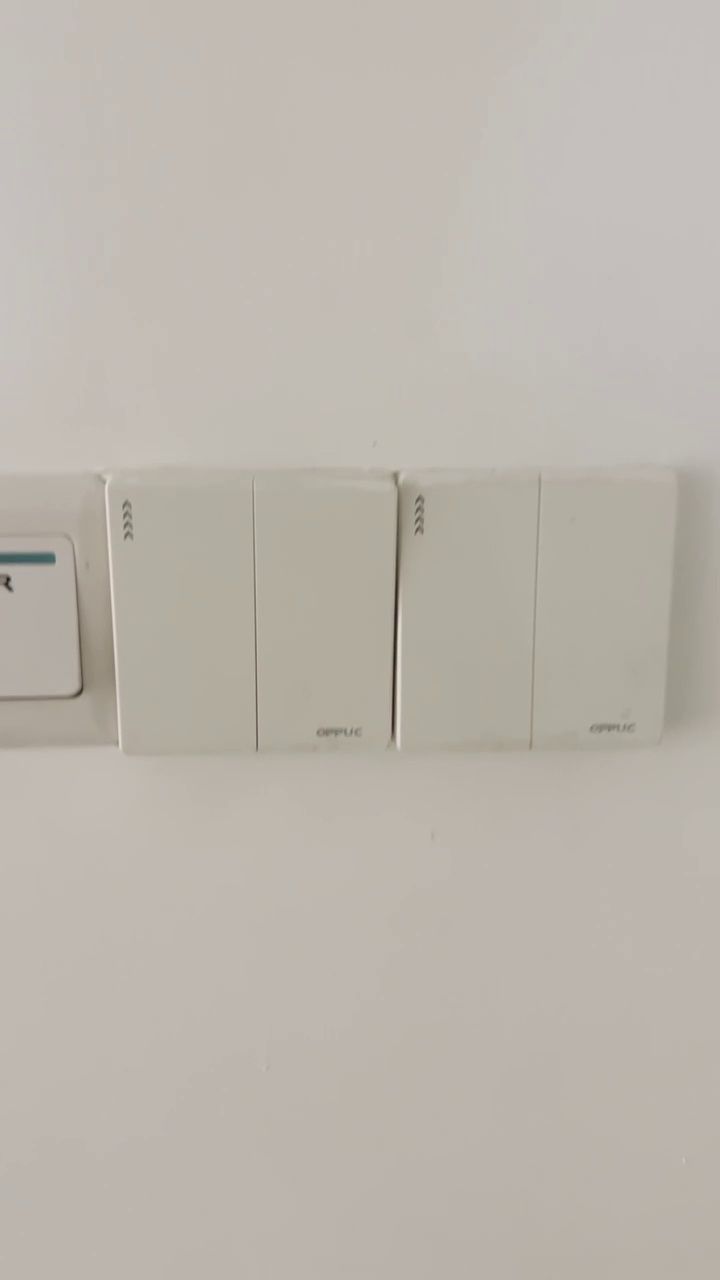button1: (117, 477, 251, 744), (405, 482, 536, 750), (259, 487, 393, 747), (540, 488, 669, 749)
